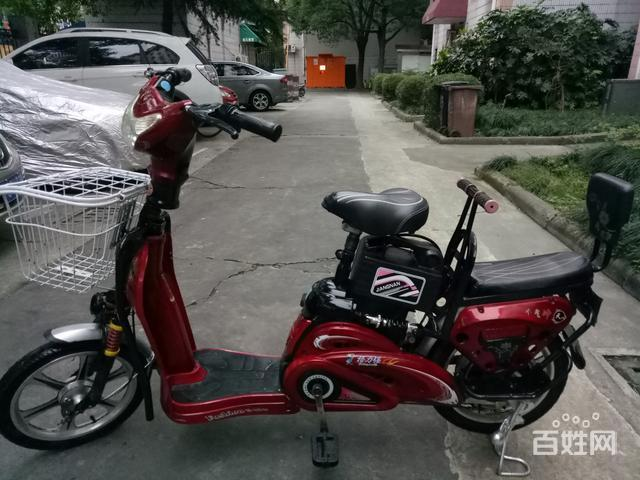电动车: (1, 67, 632, 472)
